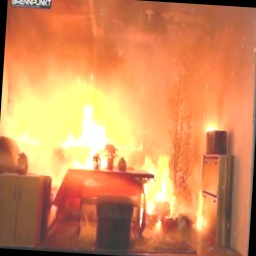fire: (4, 52, 182, 193)
